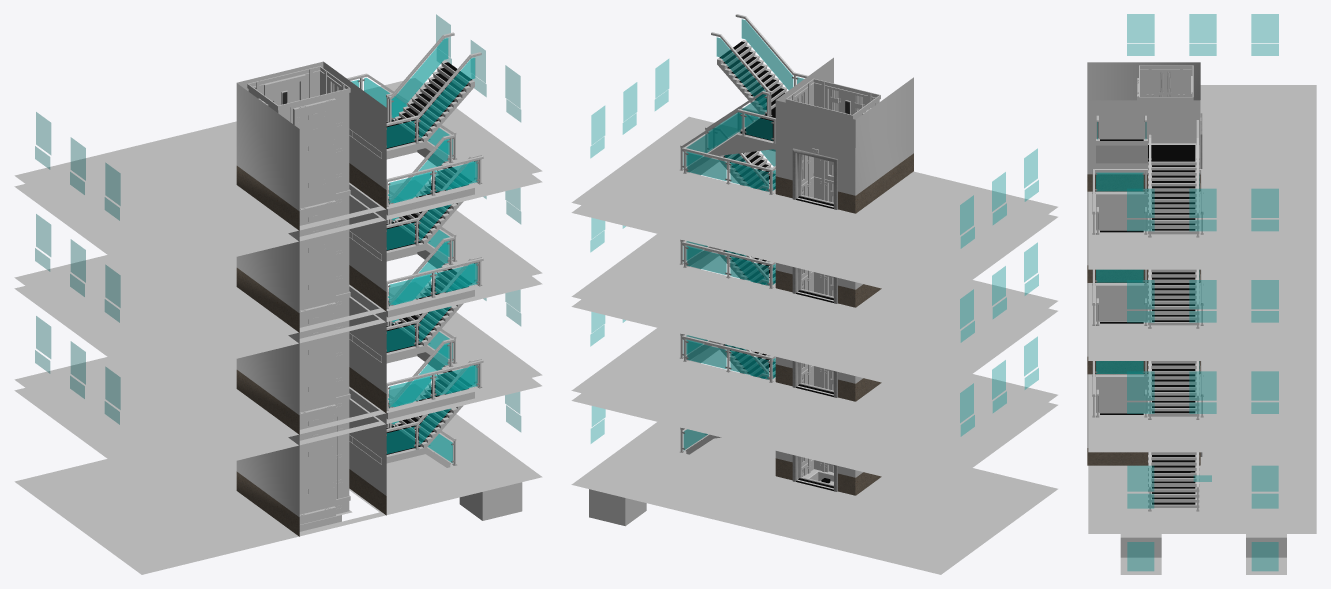
File: Building07_V02_Interior01.fbx
3 views of the same model, side by side, from view 1: azimuth 30°, elevation 25°; view 2: azimuth 150°, elevation 25°; view 3: azimuth 270°, elevation 25° (orthographic). The views are drawn at different scales.
Parts seen in each view (by area): view 1: SM_Building07_V02_Interior01; view 2: SM_Building07_V02_Interior01; view 3: SM_Building07_V02_Interior01.
Part boxes in pixels (x1,y1,x2,y2): SM_Building07_V02_Interior01: (14, 14, 542, 574); SM_Building07_V02_Interior01: (571, 14, 1057, 574); SM_Building07_V02_Interior01: (1087, 14, 1316, 574).
Bounding box in the file's own units: 1671 × 1913 × 923.
